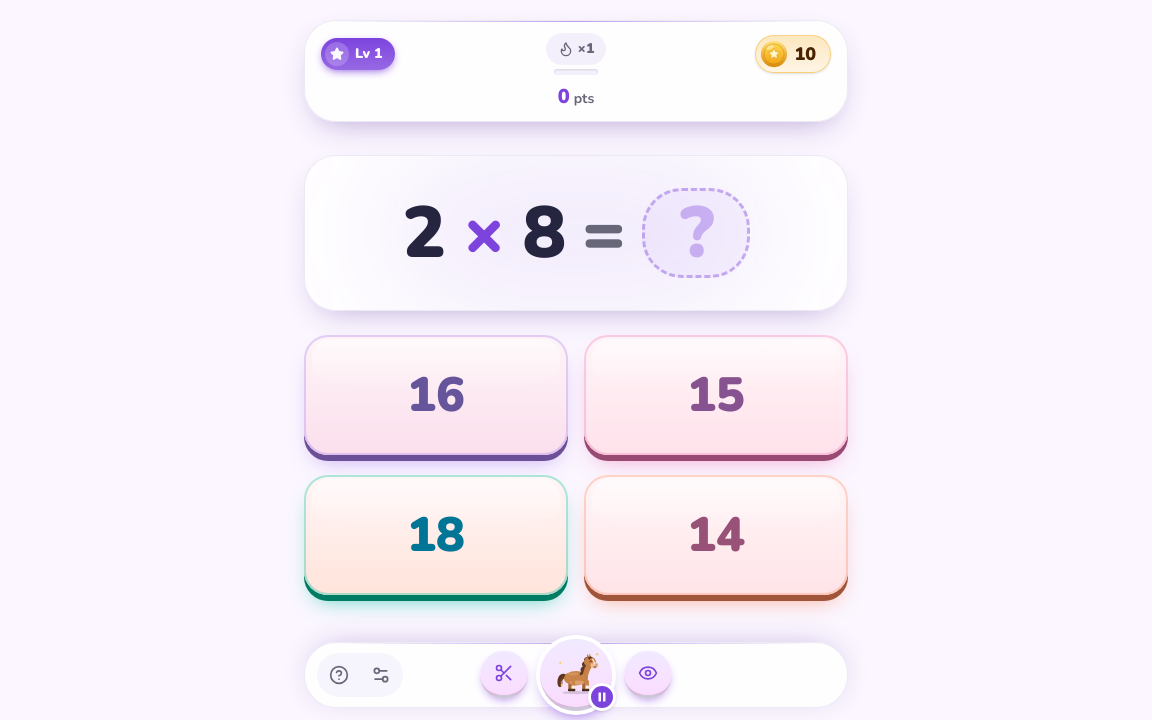
GameScreen › does not wake the pets with the answer that ended the day
Click the button "16" at (436, 395), box top-left (304, 335), bottom-right (568, 455)
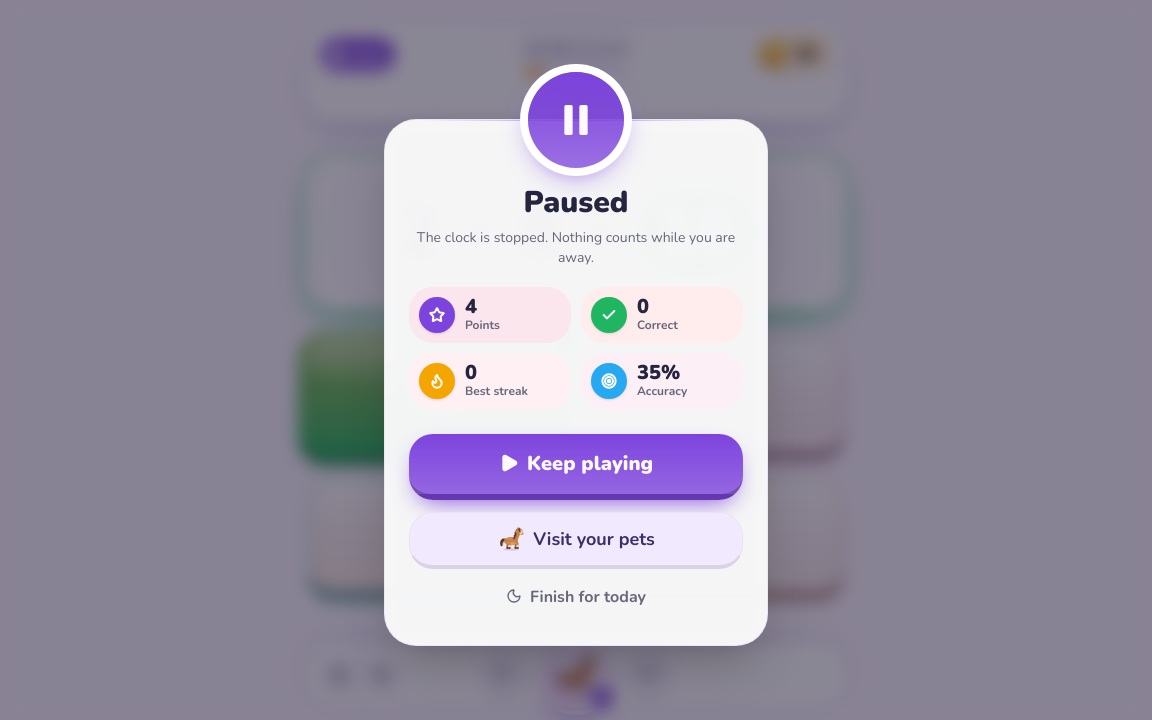
Click the button "Finish for today" at (576, 596), box top-left (409, 572), bottom-right (743, 620)
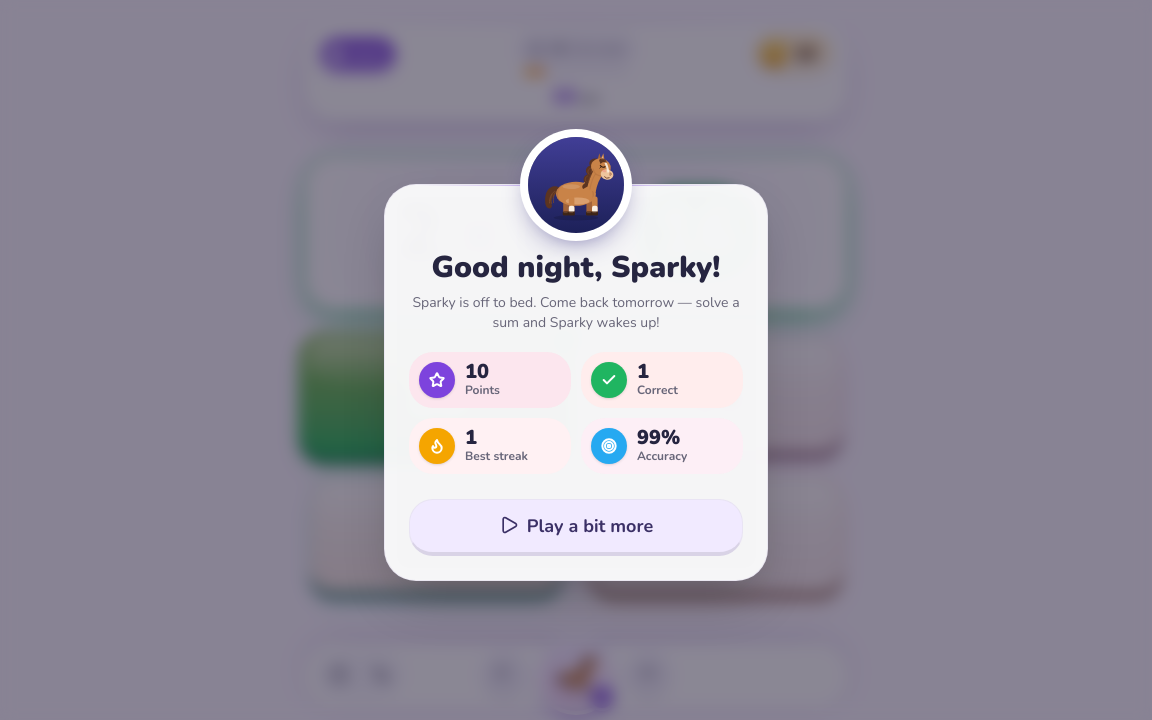
Expected: the heading "Good night, Sparky!" is shown, top-left (409, 249), bottom-right (743, 286)
